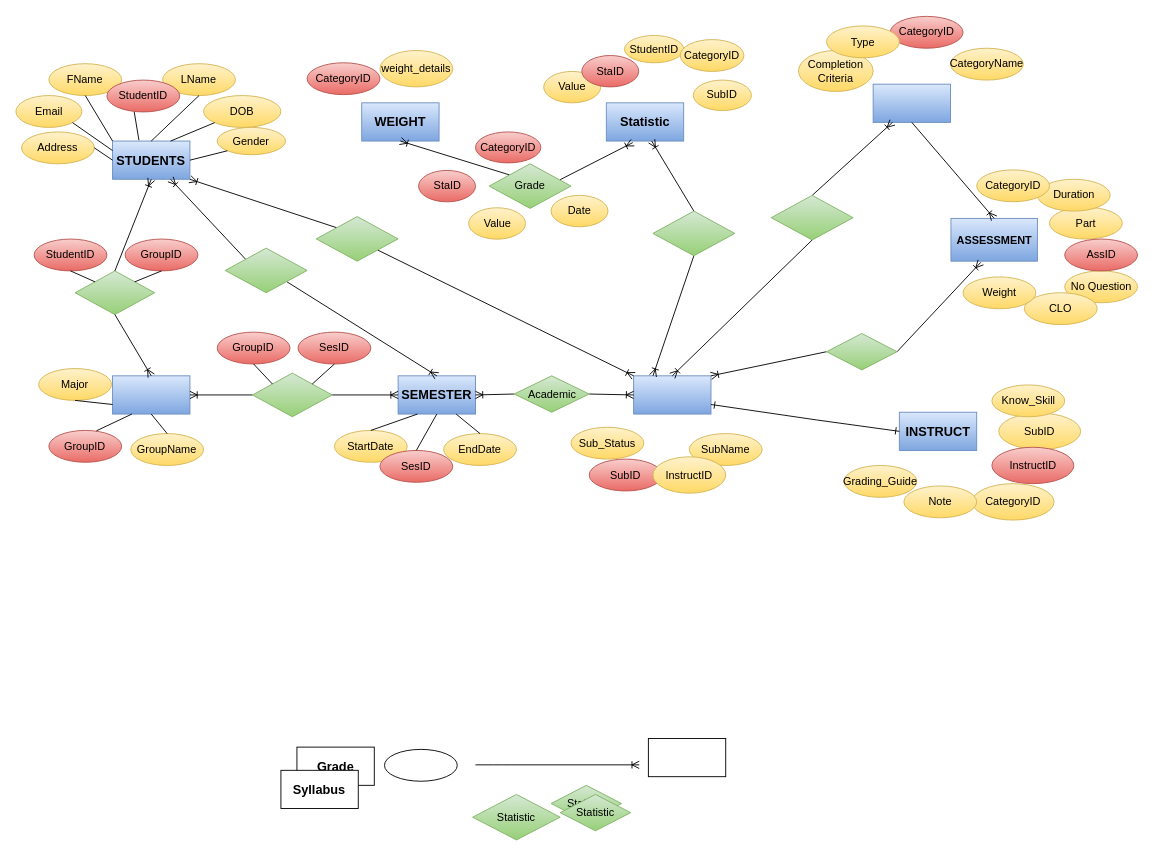
Image size: 1154x855. Some labels were removed from this diagram. Each missing label, with the box of its shape:
CATEGORY: (872, 83, 950, 122)
ENROLL: (252, 372, 332, 417)
GROUP: (112, 375, 190, 414)
JOIN: (74, 270, 155, 315)
SUBJECT: (633, 375, 711, 414)
Transcripts: (315, 216, 398, 261)
